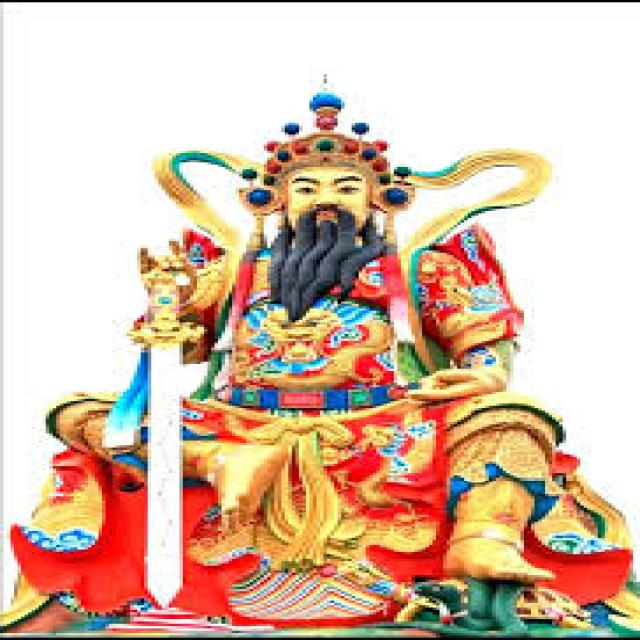Xuan wu: (116, 83, 554, 552)
